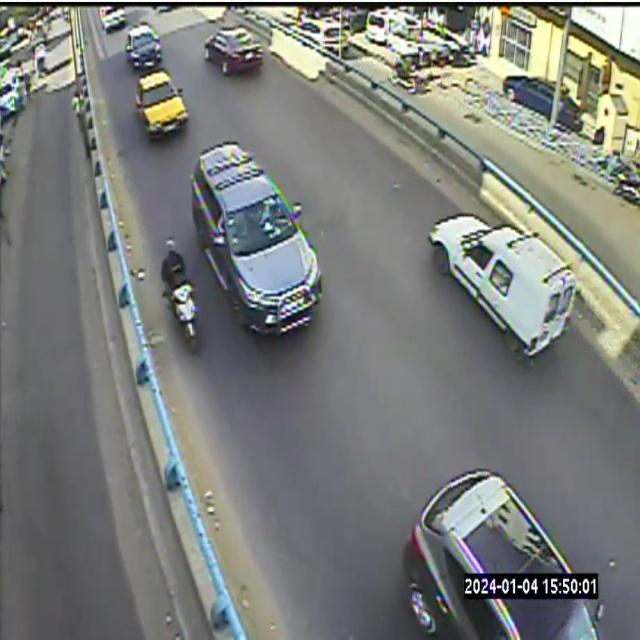car: (403, 470, 603, 639), (191, 140, 322, 334), (429, 214, 577, 357), (136, 72, 188, 135), (205, 27, 262, 75), (125, 22, 161, 70), (99, 6, 126, 32)
